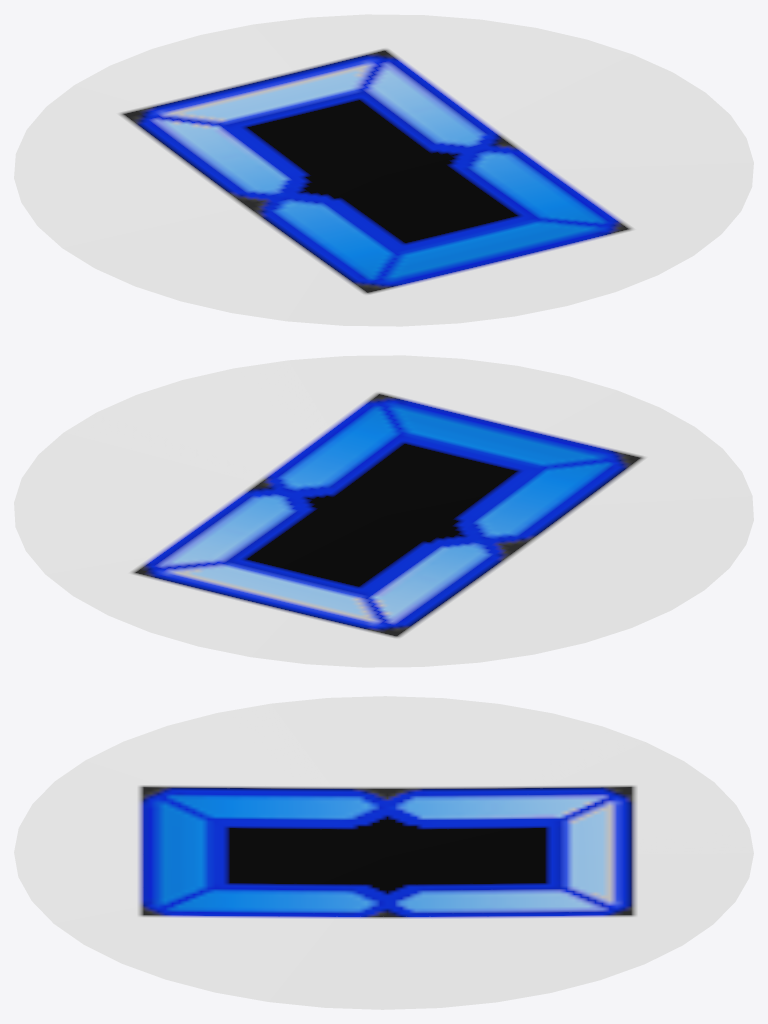
The model's file is daojishi.fbx.
3 renders of one model, top to bottom at view 1: azimuth 30°, elevation 25°; view 2: azimuth 150°, elevation 25°; view 3: azimuth 270°, elevation 25°, orthographic.
Parts seen in each view (by area): view 1: daojishi; view 2: daojishi; view 3: daojishi.
Part boxes in pixels (<box>): daojishi: <box>14,14,753,326</box>; daojishi: <box>14,355,753,667</box>; daojishi: <box>14,696,753,1009</box>.
Size of the model in its own units: 5.84 by 0.0407 by 5.82.
Materials: 1 (1 with a texture image).
